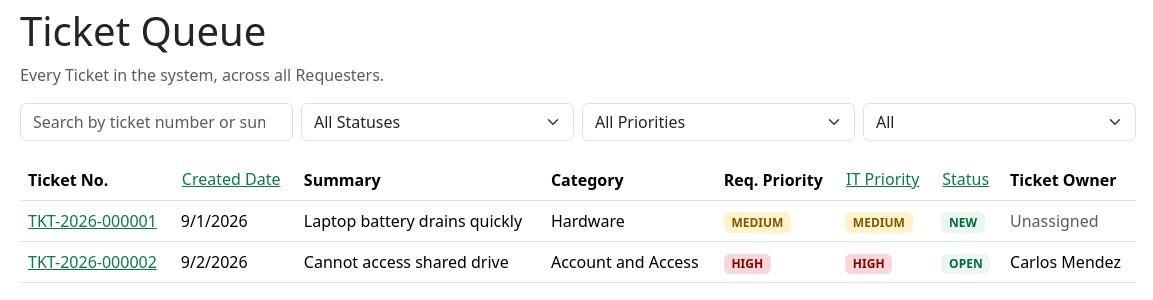
Test: StaffTicketQueue (UI-04) › shows a no-results state, distinct from empty, when a search matches nothing
Type "nomatch" into the search field labelled "Search". click: (156, 122)
box: [20,103,293,141]
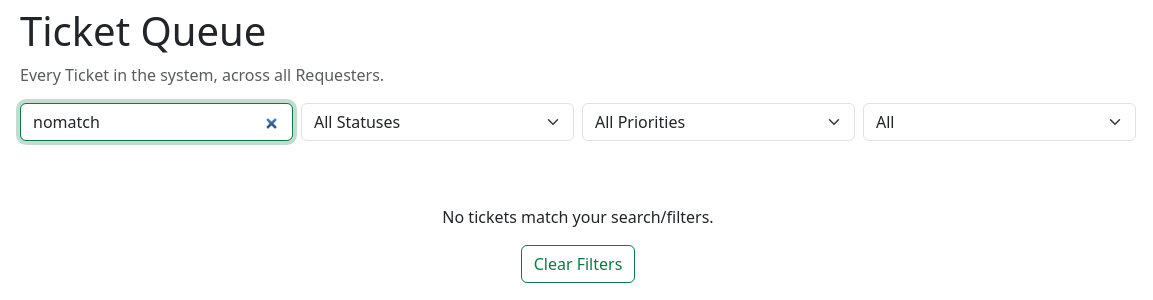
Expected: the text "No tickets match your search/filters." is shown, [442,206,714,228]
